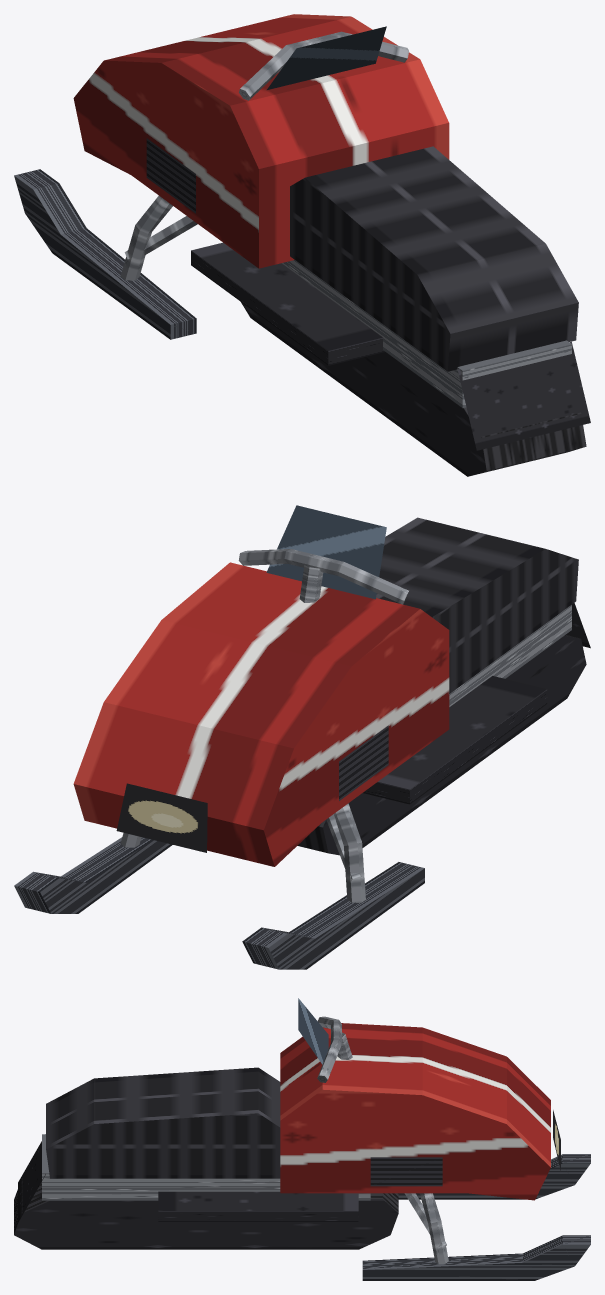
The model's file is Snowmobile.glb.
The picture shows the model from 3 angles, top to bottom: view 1: azimuth 30°, elevation 25°; view 2: azimuth 150°, elevation 25°; view 3: azimuth 270°, elevation 25°; orthographic projection. The views are drawn at different scales.
Visible parts, largest first — view 1: Snowmobile; view 2: Snowmobile; view 3: Snowmobile.
Boxes of the visible parts, x1,y1,x2,y2 form: Snowmobile: (14,14,590,476); Snowmobile: (14,505,590,969); Snowmobile: (14,998,590,1280).
Size of the model in its own units: 1.07 by 1.22 by 2.88.
1 material, 1 textured.
